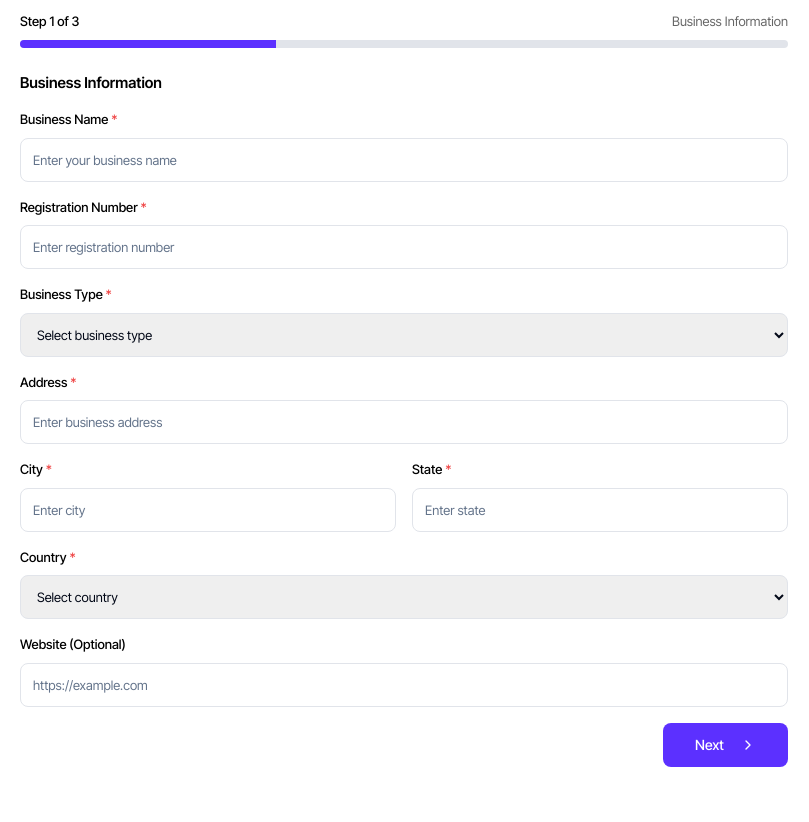
Test: ApplicationForm › shows validation errors when submitting empty form
Click the button "Next".
click(726, 744)  # box [663, 722, 788, 766]
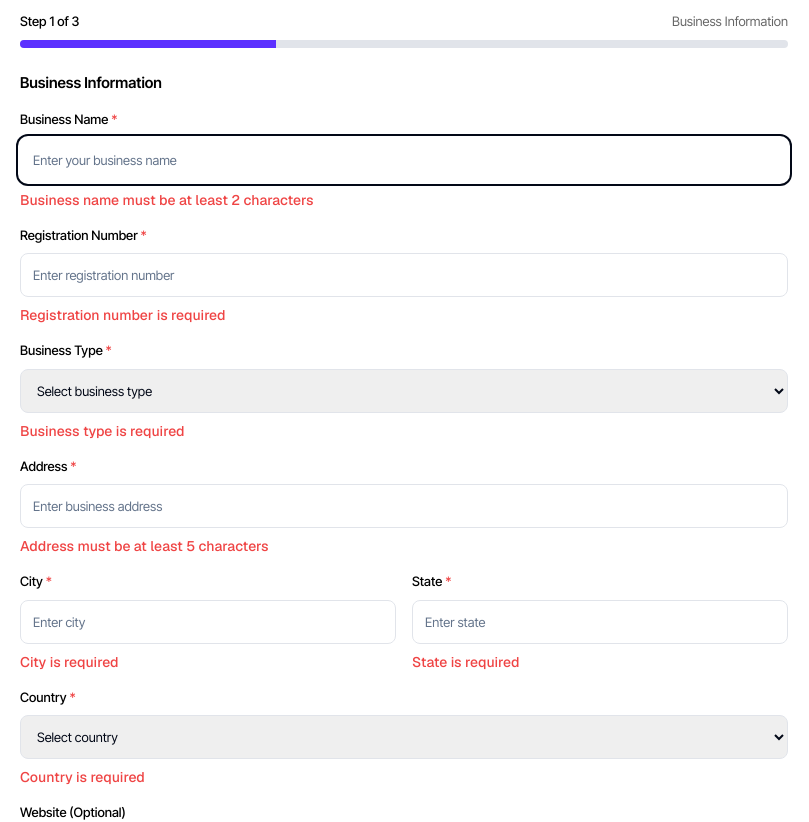
expect the text "Business name must be at least 2 characters" is shown: met, box [20, 190, 314, 208]
expect the text "Registration number is required" is shown: met, box [20, 306, 226, 324]
